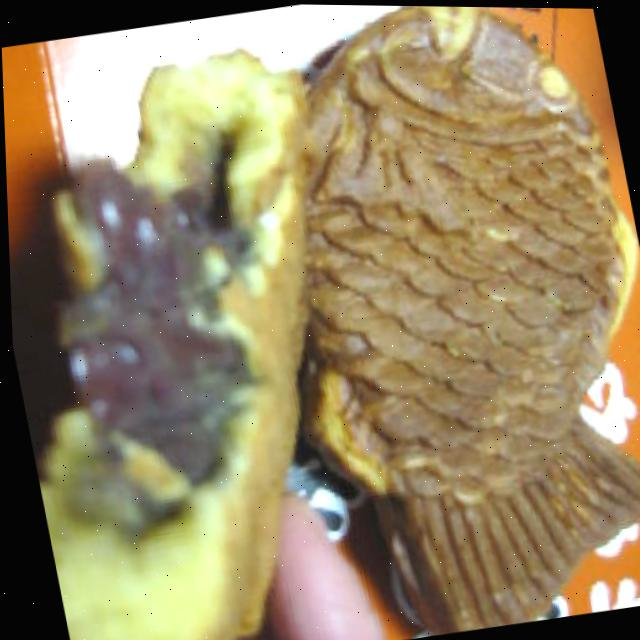熟制海鲜: (238, 3, 640, 640)
